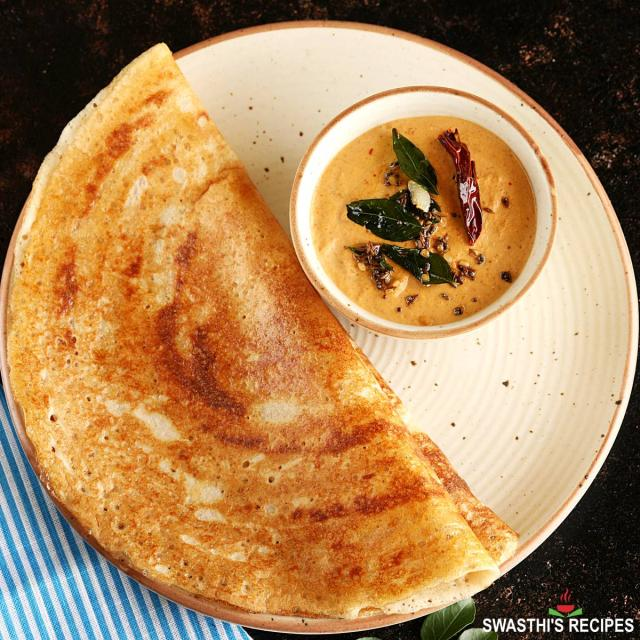DOSA: (0, 43, 518, 621)
